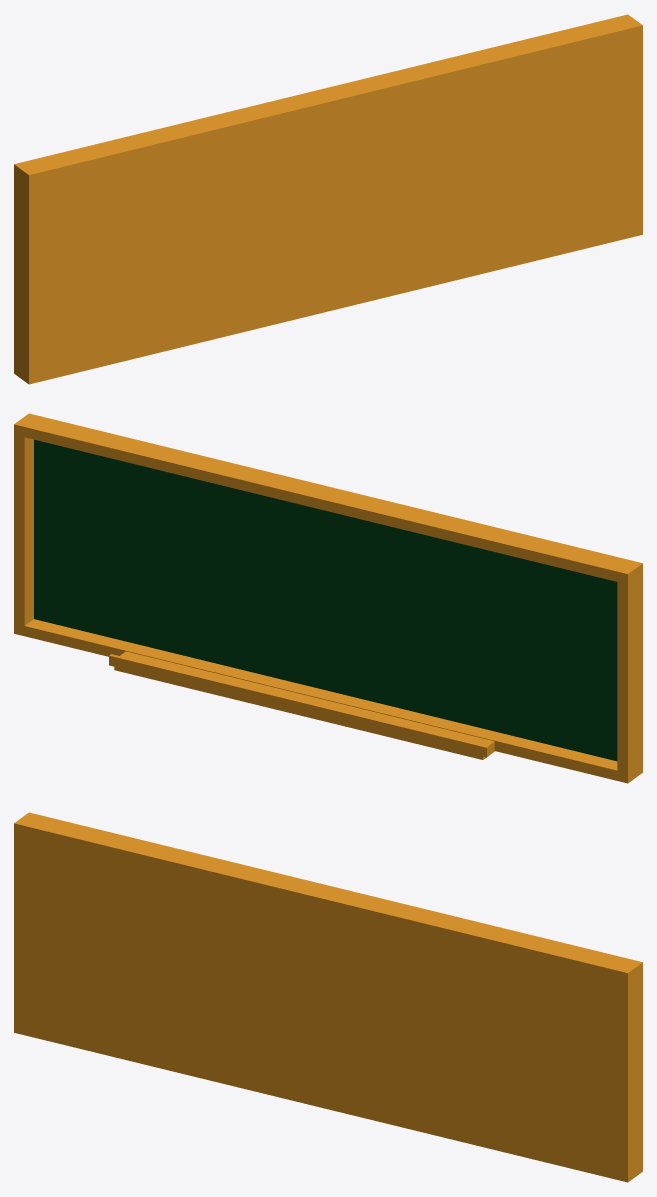
The model's file is blackBoard.fbx.
3 views of the same model, one above another, from view 1: azimuth 30°, elevation 25°; view 2: azimuth 150°, elevation 25°; view 3: azimuth 330°, elevation 25° (orthographic).
Visible parts, largest first — view 1: Cube; view 2: Cube, Cube.004; view 3: Cube.
Part boxes in pixels (x1=…): Cube: x1=14, y1=14, x2=642, y2=384; Cube: x1=14, y1=413, x2=642, y2=783; Cube.004: x1=109, y1=651, x2=494, y2=759; Cube: x1=14, y1=812, x2=642, y2=1182.
Bounding box in the file's own units: 13603 × 4443 × 1024.
